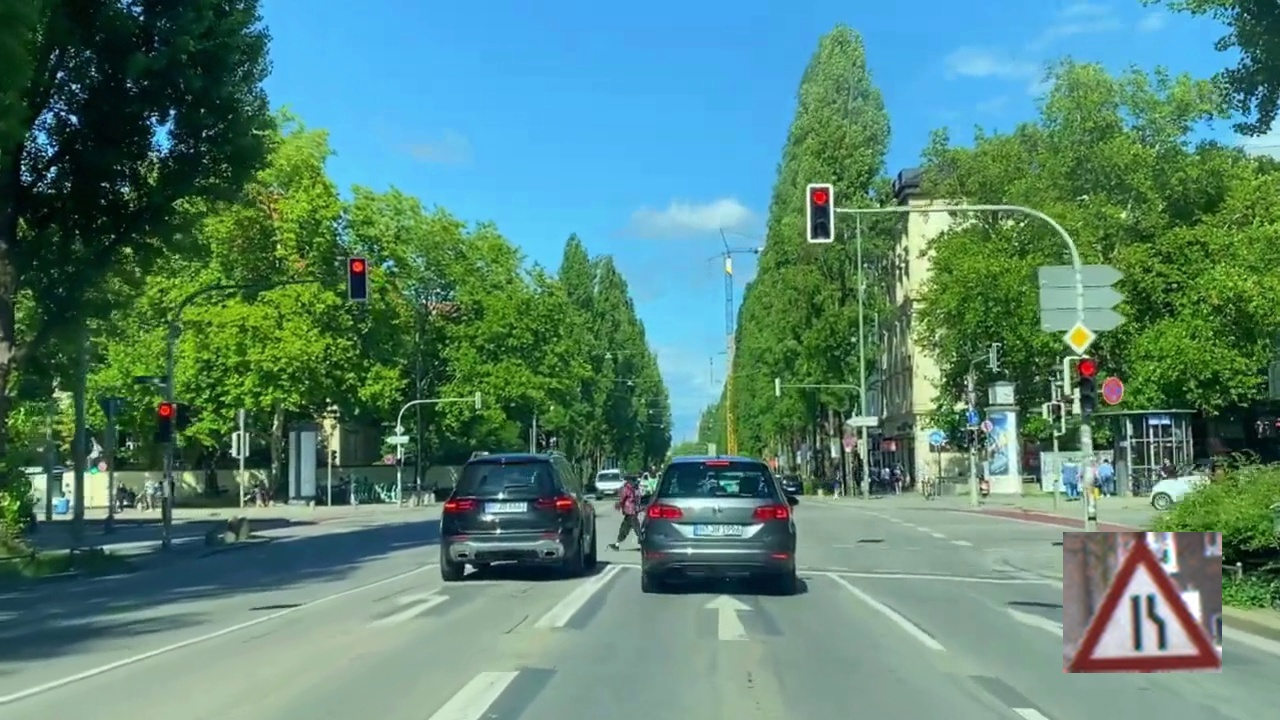Road narrows: (1063, 532, 1222, 673)
